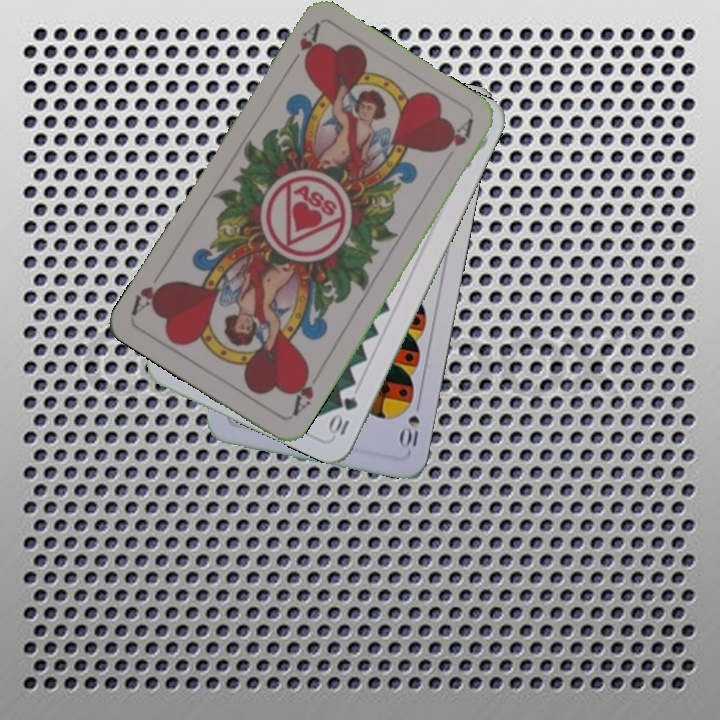G10: (326, 393, 361, 439)
HA: (287, 362, 324, 419), (284, 20, 323, 74)
S10: (396, 395, 424, 450)
